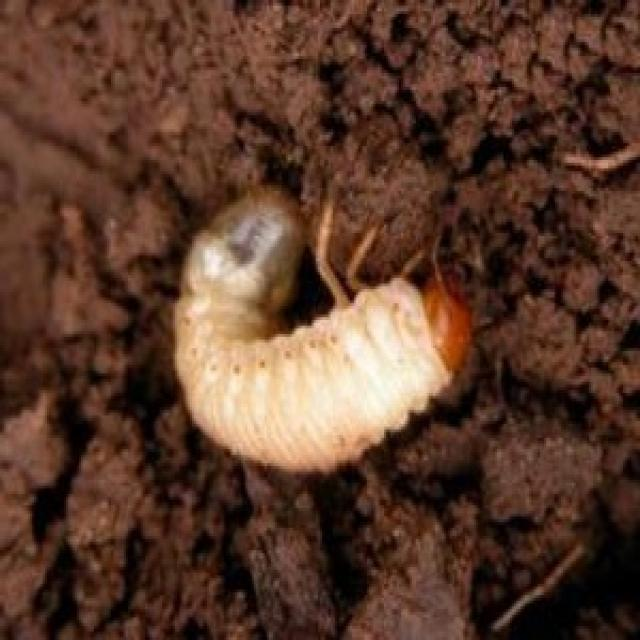grub: (171, 178, 467, 470)
